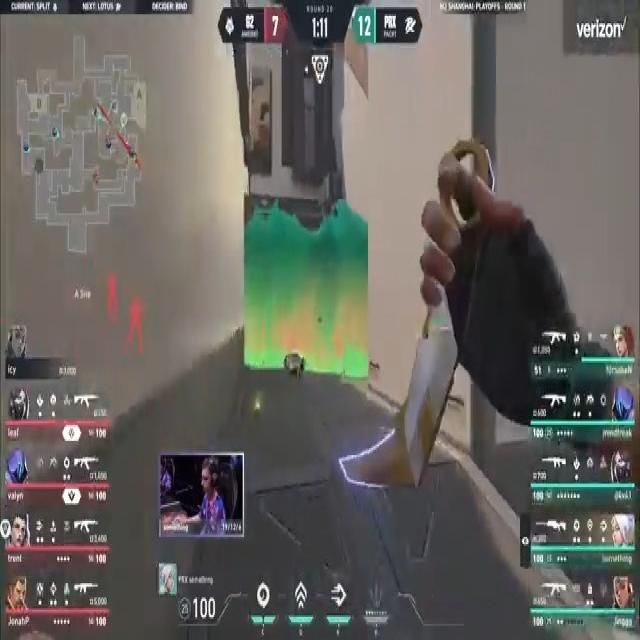enemy behind wall: (127, 297, 148, 361)
